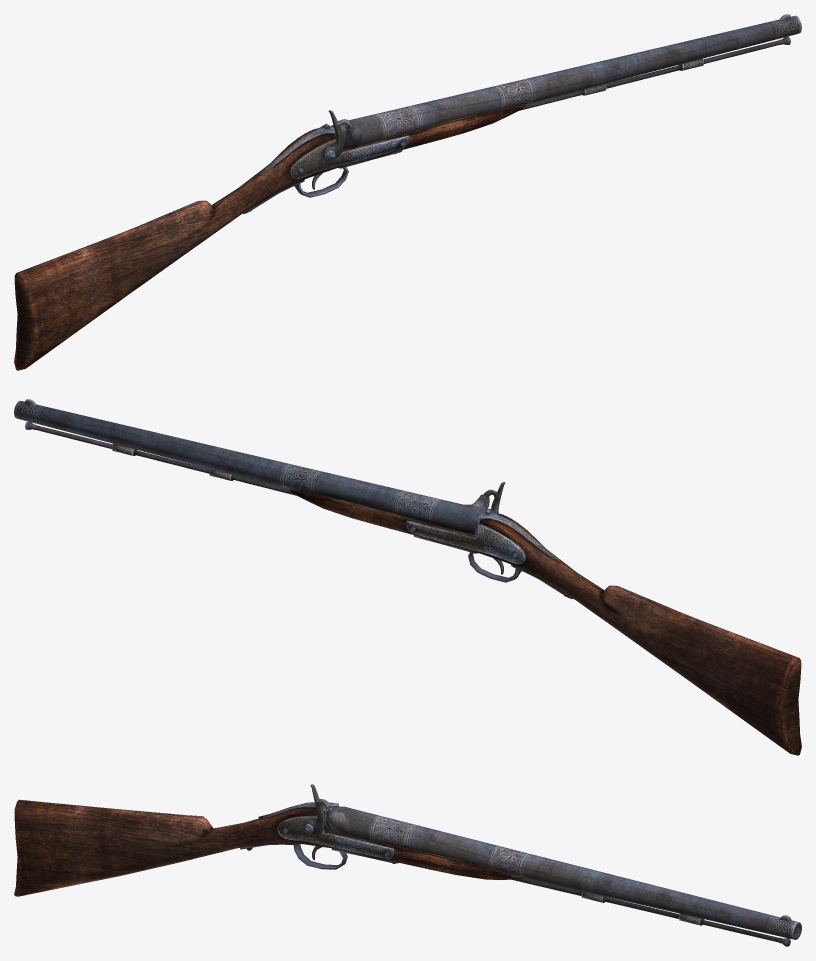
Rendered from musketoon_long.FBX.
3 renders of one model, top to bottom at view 1: azimuth 30°, elevation 25°; view 2: azimuth 150°, elevation 25°; view 3: azimuth 330°, elevation 25°, orthographic.
Parts seen in each view (by area): view 1: musketoon_long; view 2: musketoon_long; view 3: musketoon_long.
Part boxes in pixels (x1,y1,x2,y2): musketoon_long: (14, 14, 801, 370); musketoon_long: (14, 399, 801, 755); musketoon_long: (14, 784, 801, 946).
Size of the model in its own units: 142 by 33.58 by 7.03.
